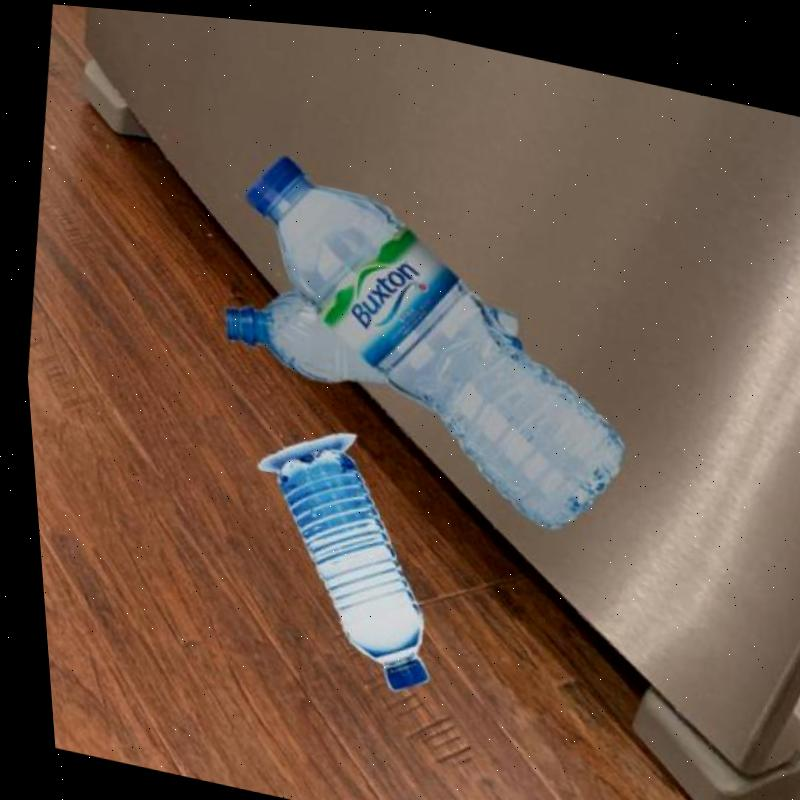botella: (199, 136, 657, 536), (239, 426, 451, 694), (212, 248, 526, 418)
